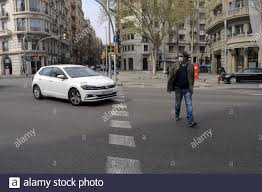mask: (178, 52, 187, 61)
